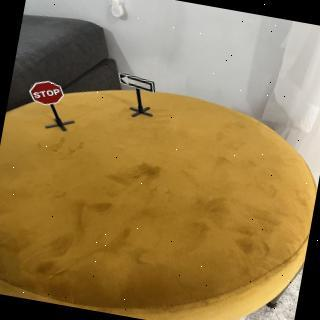sign_oneway_left: (115, 71, 161, 98)
sign_stop: (28, 78, 69, 111)
